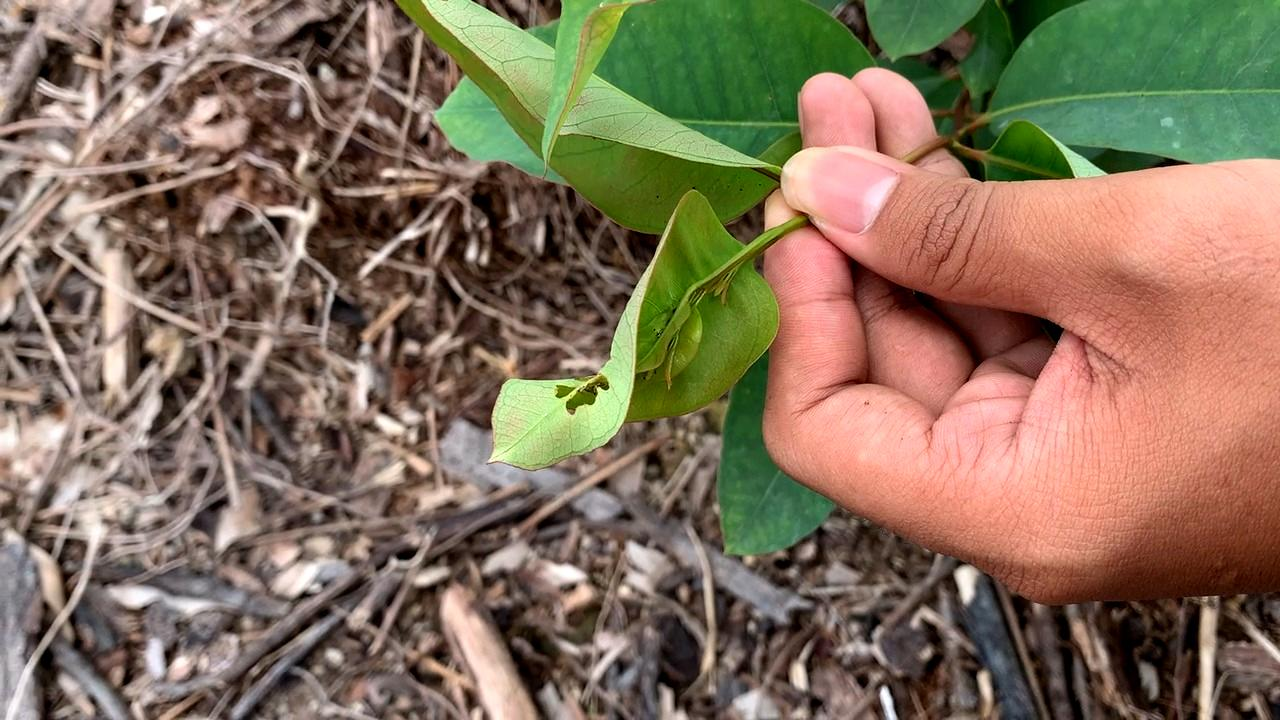Leaf Roller - Leaf: (483, 181, 782, 482)
